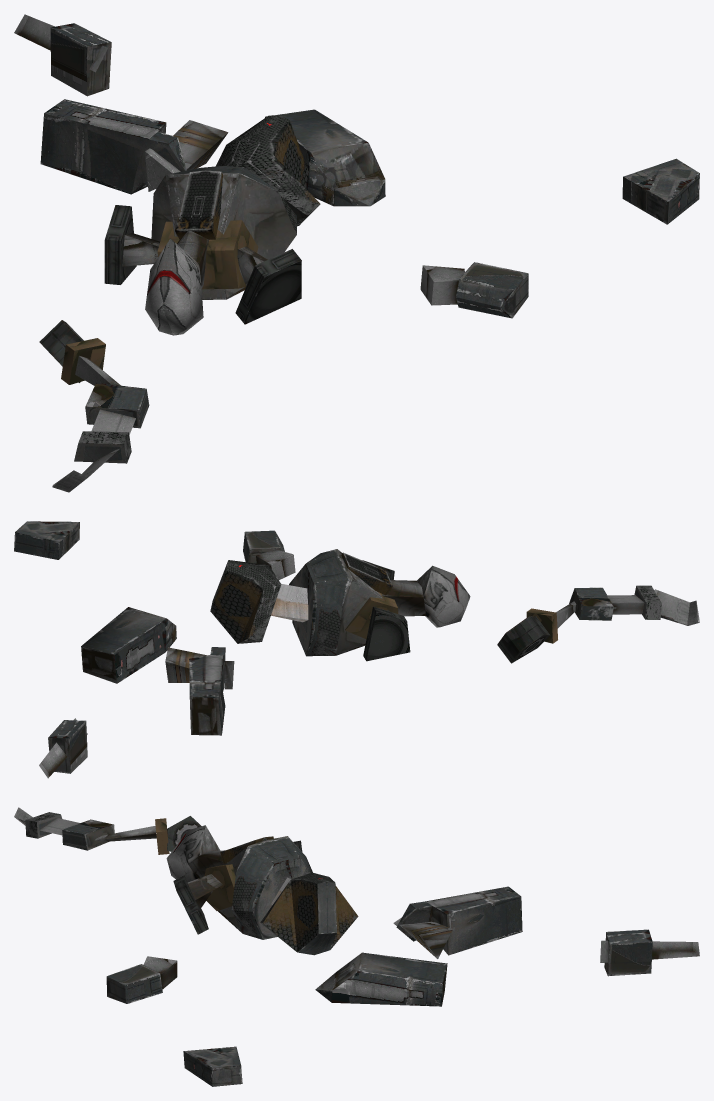
Rendered from Vehicle_Robot004_lod2.glb.
3 renders of one model, top to bottom at view 1: azimuth 30°, elevation 25°; view 2: azimuth 150°, elevation 25°; view 3: azimuth 270°, elevation 25°, orthographic. The views are drawn at different scales.
Visible parts, largest first — view 1: tianwang_robot004_lod2; view 2: tianwang_robot004_lod2; view 3: tianwang_robot004_lod2.
Part boxes in pixels (x1,y1,x2,y2): tianwang_robot004_lod2: [14, 14, 699, 492]; tianwang_robot004_lod2: [14, 521, 699, 778]; tianwang_robot004_lod2: [14, 807, 699, 1086].
Bounding box in the file's own units: 4.17 × 0.6979 × 4.36.
1 material, 1 textured.
